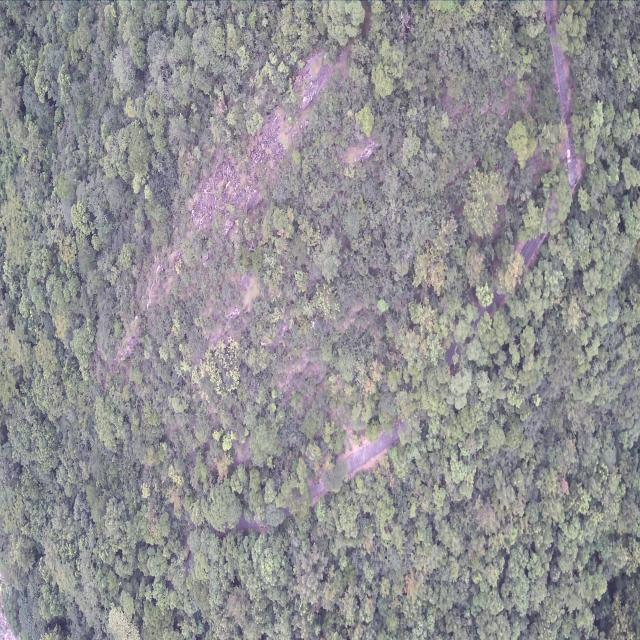UAV: (310, 320, 316, 328)
